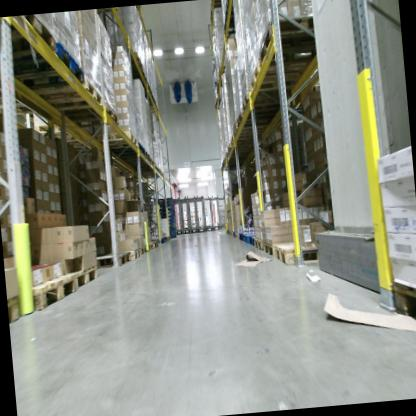pallet: (0, 38, 86, 96), (0, 14, 61, 70), (256, 17, 320, 69), (249, 53, 322, 93), (36, 78, 105, 116), (29, 274, 79, 315), (62, 99, 121, 130), (274, 237, 326, 270), (240, 88, 288, 116), (235, 105, 291, 127), (394, 275, 416, 328), (89, 246, 133, 272), (94, 128, 139, 151), (68, 266, 100, 295), (231, 119, 270, 142), (107, 139, 145, 160), (7, 292, 25, 324), (121, 147, 151, 165), (127, 247, 143, 264), (263, 240, 277, 259), (132, 50, 144, 69), (254, 237, 264, 253), (138, 242, 148, 256), (243, 230, 252, 245), (144, 242, 154, 252), (250, 235, 257, 248), (152, 240, 159, 248), (234, 232, 240, 241), (239, 232, 244, 241), (167, 235, 172, 241)
